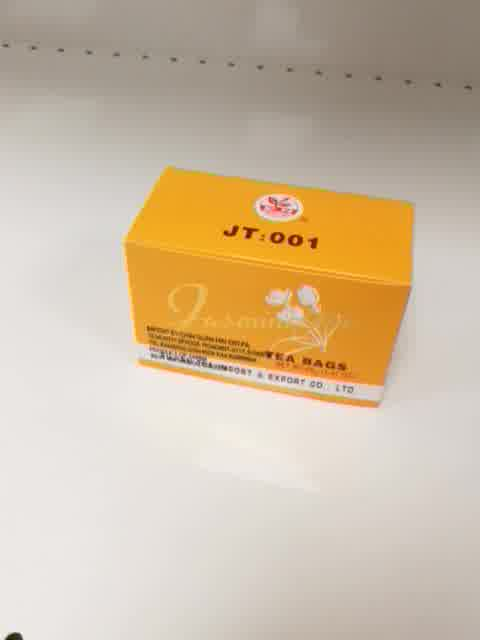jasminetea: (123, 164, 414, 411)
